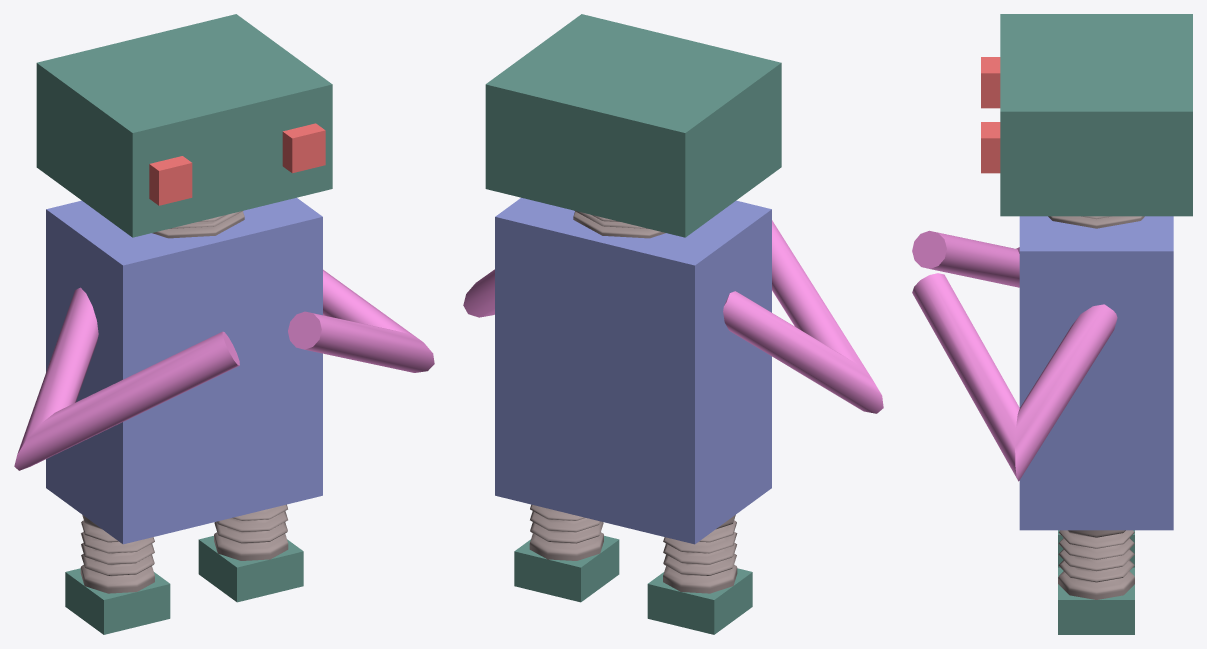
3 renders of one model, left to right at view 1: azimuth 30°, elevation 25°; view 2: azimuth 150°, elevation 25°; view 3: azimuth 270°, elevation 25°, orthographic.
Visible parts, largest first — view 1: Box001, Box002, Line001, Line002, Box004, Box003, Hose002, Hose003, Box006, Box005, Hose001; view 2: Box001, Box002, Line001, Box004, Box003, Hose002, Hose003, Hose001, Line002; view 3: Box001, Box002, Line002, Hose003, Line001, Box004, Box005, Box006, Hose001.
Boxes of the visible parts, bbox=[...] form: Box001: bbox=[46, 197, 322, 544]; Box002: bbox=[36, 14, 332, 237]; Line001: bbox=[14, 287, 239, 470]; Line002: bbox=[288, 269, 434, 372]; Box004: bbox=[198, 536, 303, 602]; Box003: bbox=[65, 568, 170, 634]; Hose002: bbox=[80, 515, 154, 593]; Hose003: bbox=[214, 504, 288, 560]; Box006: bbox=[282, 123, 325, 173]; Box005: bbox=[149, 156, 192, 205]; Hose001: bbox=[152, 210, 244, 238]; Box001: bbox=[495, 197, 771, 544]; Box002: bbox=[485, 14, 781, 237]; Line001: bbox=[723, 220, 883, 413]; Box004: bbox=[514, 535, 619, 602]; Box003: bbox=[647, 568, 752, 634]; Hose002: bbox=[663, 515, 737, 593]; Hose003: bbox=[529, 504, 603, 560]; Hose001: bbox=[573, 210, 665, 238]; Line002: bbox=[463, 269, 494, 317]; Box001: bbox=[1019, 216, 1173, 530]; Box002: bbox=[1000, 14, 1192, 216]; Line002: bbox=[912, 273, 1117, 481]; Hose003: bbox=[1058, 530, 1134, 599]; Line001: bbox=[912, 230, 1019, 287]; Box004: bbox=[1058, 567, 1134, 634]; Box005: bbox=[981, 57, 1000, 108]; Box006: bbox=[981, 122, 1000, 173]; Hose001: bbox=[1048, 216, 1144, 228].
Bounding box in the file's own units: 63.09 × 75 × 36.47.
